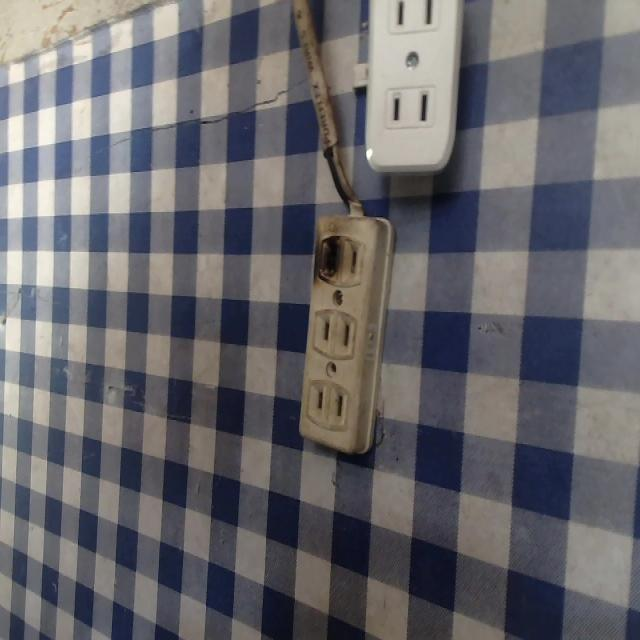-: (310, 228, 349, 295)
